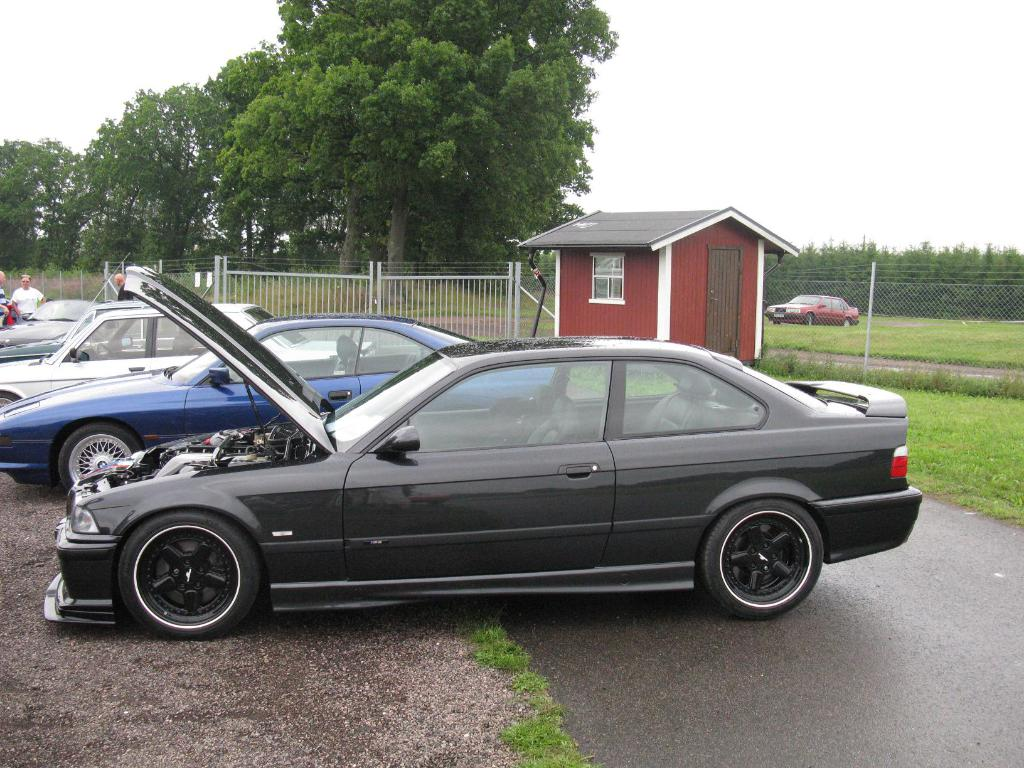Car: (37, 256, 922, 643), (0, 311, 558, 497), (0, 293, 371, 403), (0, 296, 178, 360), (762, 291, 859, 323)
